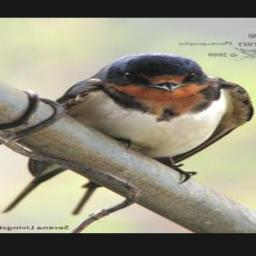Swallow: (1, 52, 255, 214)
